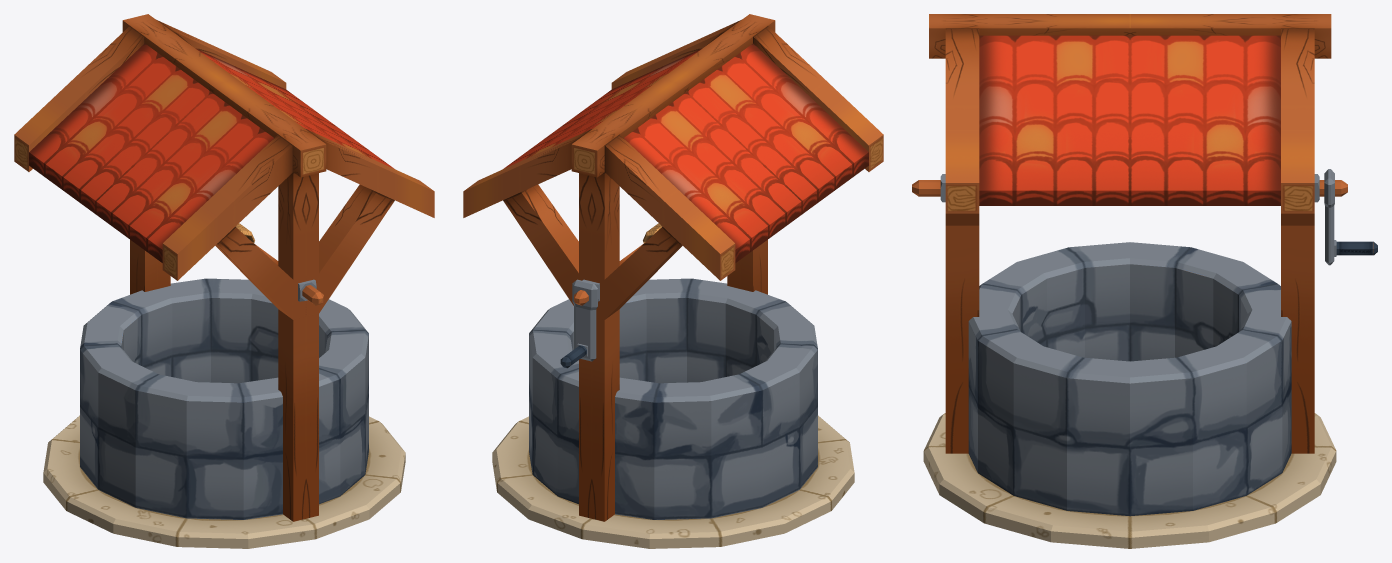
File: pozo.glb
3 renders of one model, left to right at view 1: azimuth 30°, elevation 25°; view 2: azimuth 150°, elevation 25°; view 3: azimuth 270°, elevation 25°, orthographic. The views are drawn at different scales.
Visible parts, largest first — view 1: RoofAndSupport_1, Base_0; view 2: RoofAndSupport_1, Base_0, Handle_3; view 3: Base_0, RoofAndSupport_1, Handle_3, RopeSupport_4.
Part boxes in pixels (x1,y1,x2,y2): RoofAndSupport_1: (14,14,434,521); Base_0: (43,278,405,548); RoofAndSupport_1: (463,14,883,521); Base_0: (492,278,854,548); Handle_3: (560,279,597,368); Base_0: (923,242,1336,548); RoofAndSupport_1: (929,14,1331,453); Handle_3: (1324,169,1377,265); RopeSupport_4: (912,180,1347,196).
Bounding box in the file's own units: 2.46 × 2.9 × 2.78.
Materials: 1 (1 with a texture image).
